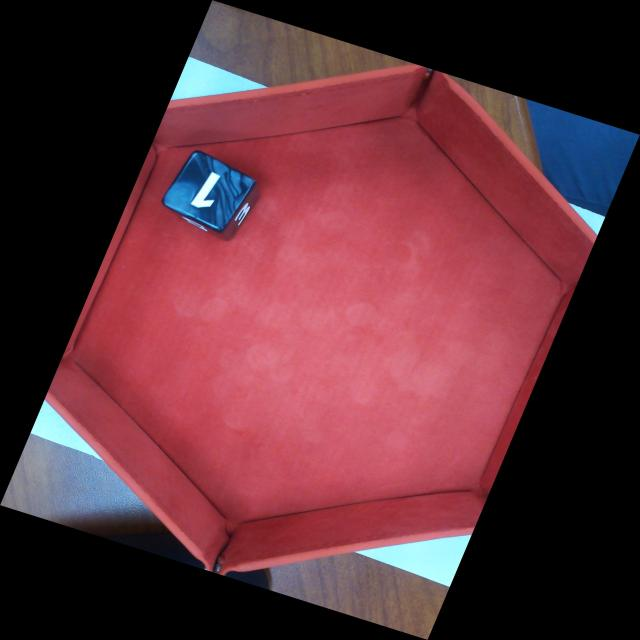dice: (162, 150, 256, 232)
